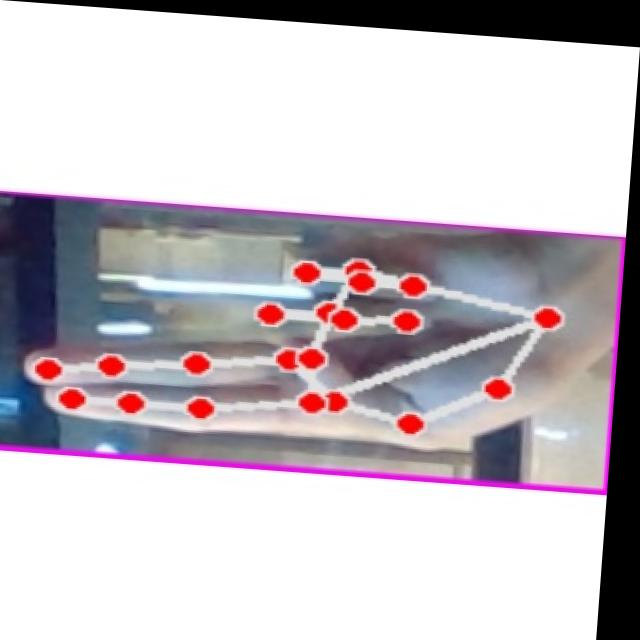H: (14, 213, 613, 463)
